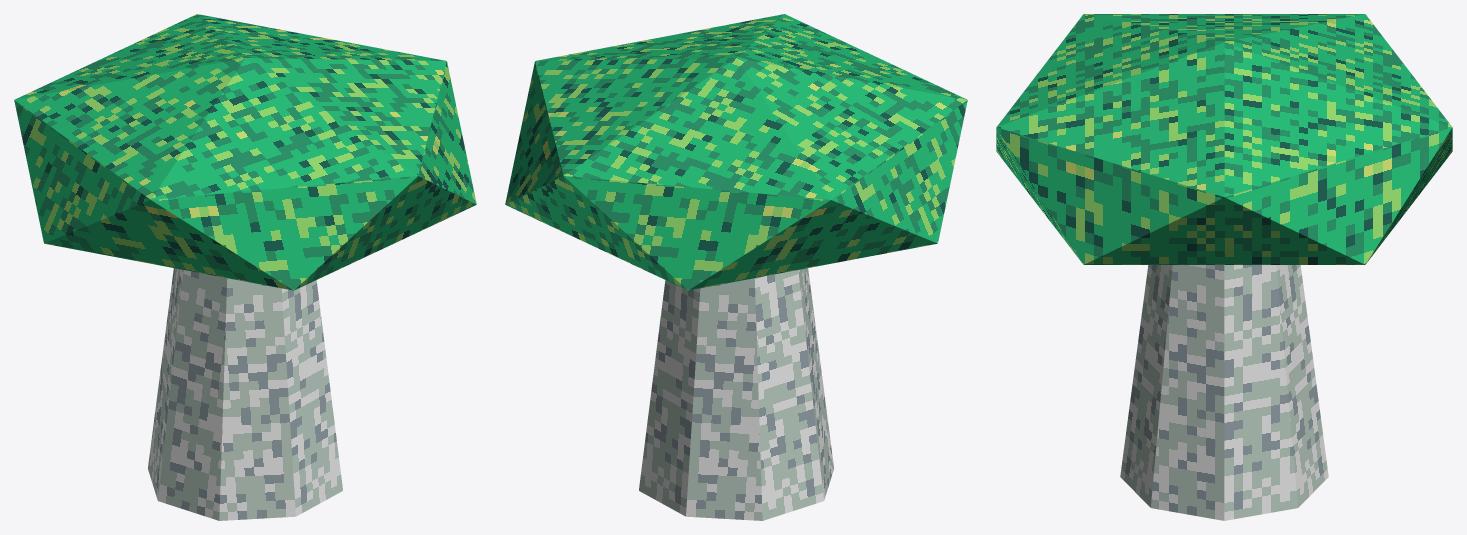
File: a04_cogumelo_gigante_3.glb
3 views of the same model, side by side, from view 1: azimuth 30°, elevation 25°; view 2: azimuth 150°, elevation 25°; view 3: azimuth 270°, elevation 25° (orthographic). The views are drawn at different scales.
Visible parts, largest first — view 1: a04_cogumelo_gigante_3; view 2: a04_cogumelo_gigante_3; view 3: a04_cogumelo_gigante_3.
Boxes of the visible parts, box(x1,y1,x2,y2) form: a04_cogumelo_gigante_3: box(14, 14, 476, 520); a04_cogumelo_gigante_3: box(505, 14, 967, 520); a04_cogumelo_gigante_3: box(996, 14, 1452, 520).
Size of the model in its own units: 3.22 by 3.22 by 3.06.
2 materials, 2 textured.
